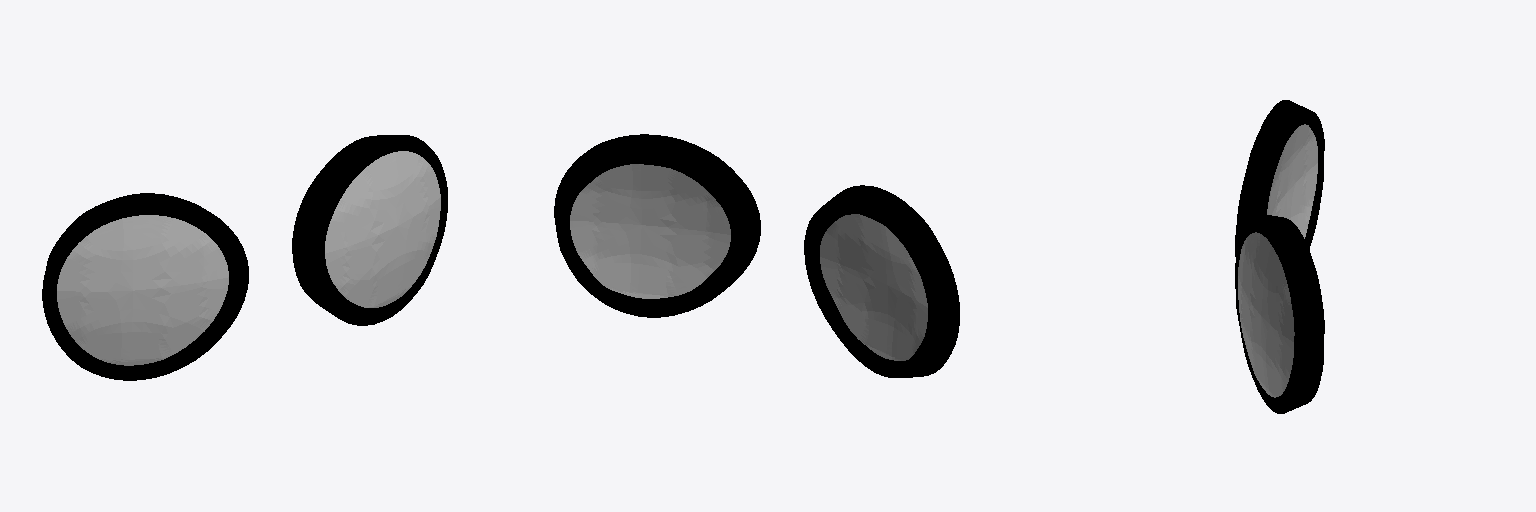
File: eyes_shock.obj
3 views of the same model, side by side, from view 1: azimuth 30°, elevation 25°; view 2: azimuth 150°, elevation 25°; view 3: azimuth 270°, elevation 25° (orthographic).
Visible parts, largest first — view 1: eyes; view 2: eyes; view 3: eyes.
Boxes of the visible parts, x1,y1,x2,y2 form: eyes: [42, 135, 447, 380]; eyes: [554, 134, 959, 377]; eyes: [1235, 100, 1324, 413].
Size of the model in its own units: 0.104 by 0.044 by 0.0199.